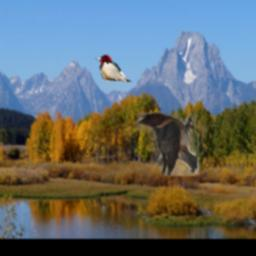Swallow: (138, 113, 200, 177)
Woodpecker: (94, 55, 133, 83)
